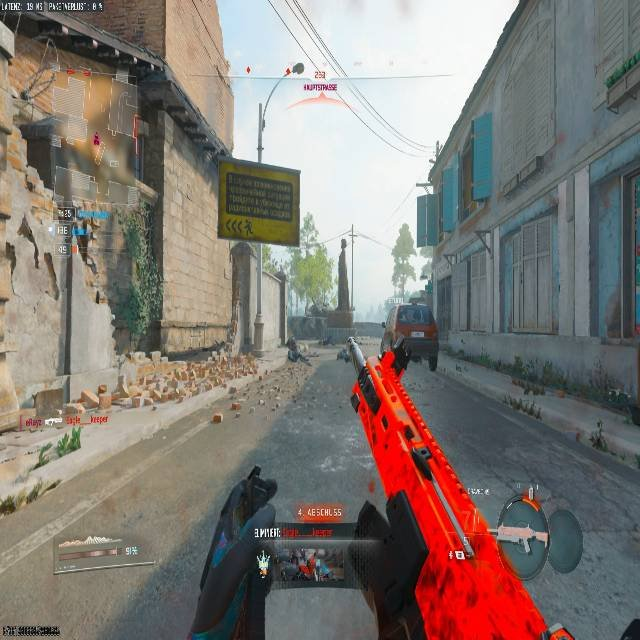player: (84, 228, 99, 275), (336, 337, 354, 363)
